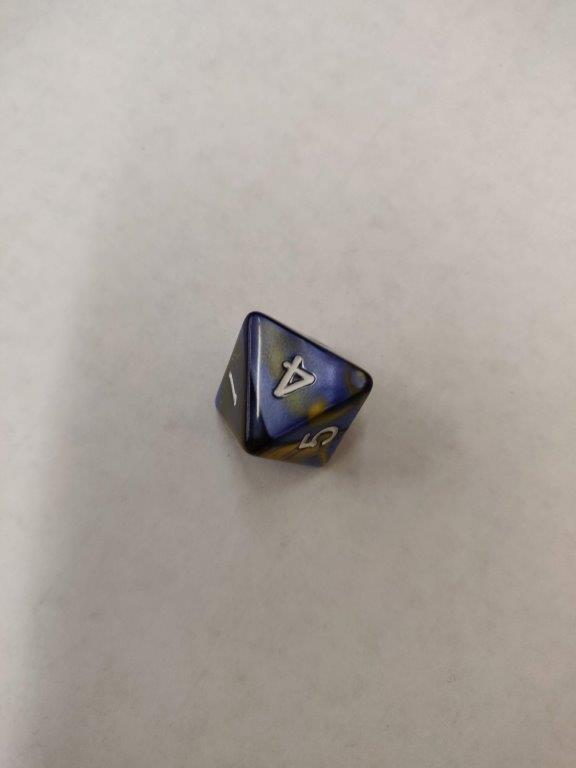d8-4: (211, 313, 372, 472)
